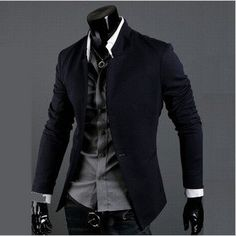F_M_suit jacket: (33, 26, 205, 223)
